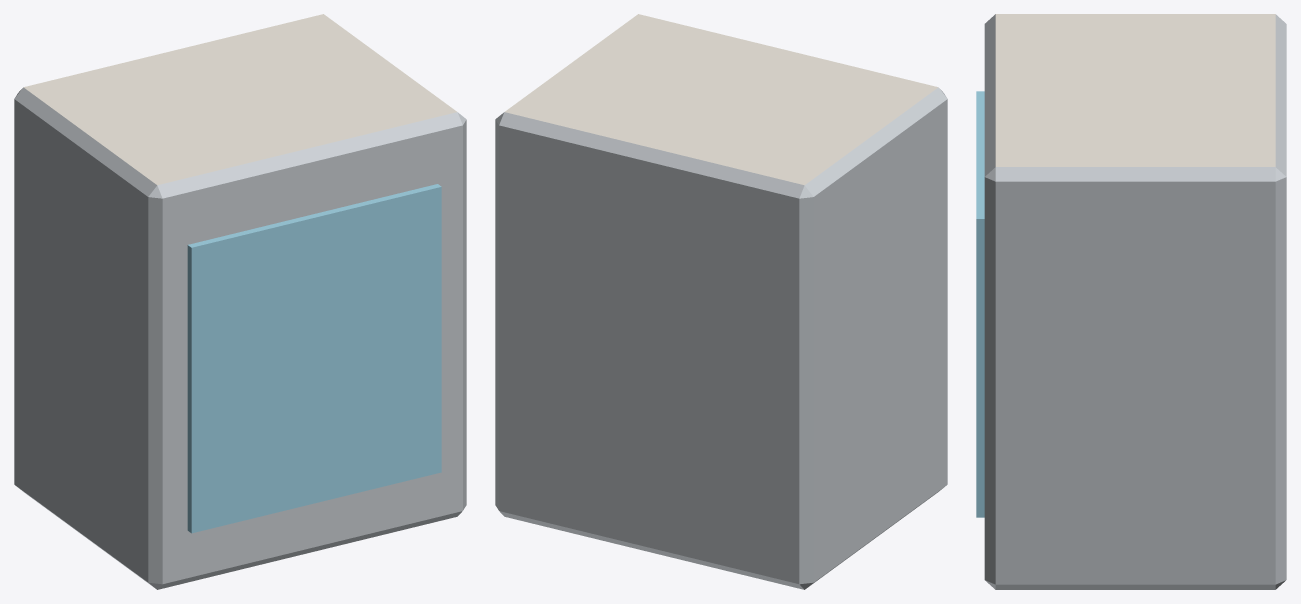
The model's file is fridge.fbx.
3 views of the same model, side by side, from view 1: azimuth 30°, elevation 25°; view 2: azimuth 150°, elevation 25°; view 3: azimuth 270°, elevation 25° (orthographic). The views are drawn at different scales.
Parts seen in each view (by area): view 1: fridge; view 2: fridge; view 3: fridge.
Boxes of the visible parts, x1=… form: fridge: x1=14, y1=14, x2=466, y2=589; fridge: x1=495, y1=14, x2=947, y2=589; fridge: x1=976, y1=14, x2=1286, y2=589.
Bounding box in the file's own units: 0.7 × 0.85 × 0.565.
